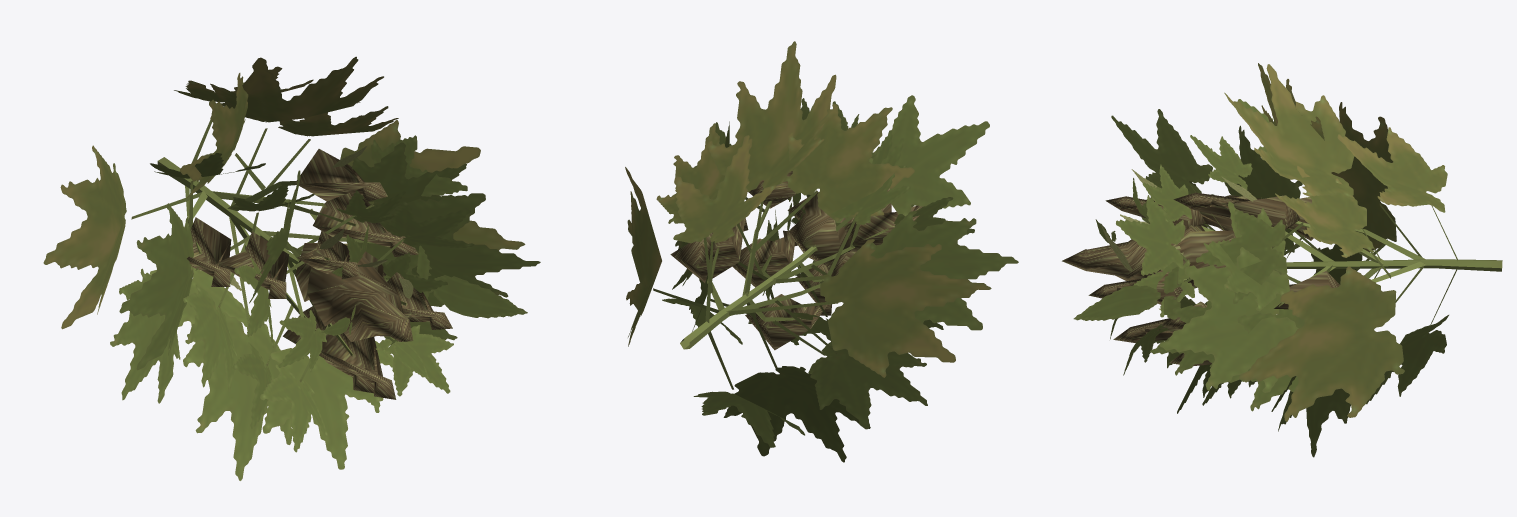
File: p_dark_kush_ripe_c1_cards.obj
The picture shows the model from 3 angles, left to right: view 1: azimuth 30°, elevation 25°; view 2: azimuth 150°, elevation 25°; view 3: azimuth 270°, elevation 25°; orthographic projection. The views are drawn at different scales.
Bounding box in the file's own units: 1.55 × 1.57 × 1.35.
Materials: 1 (1 with a texture image).
